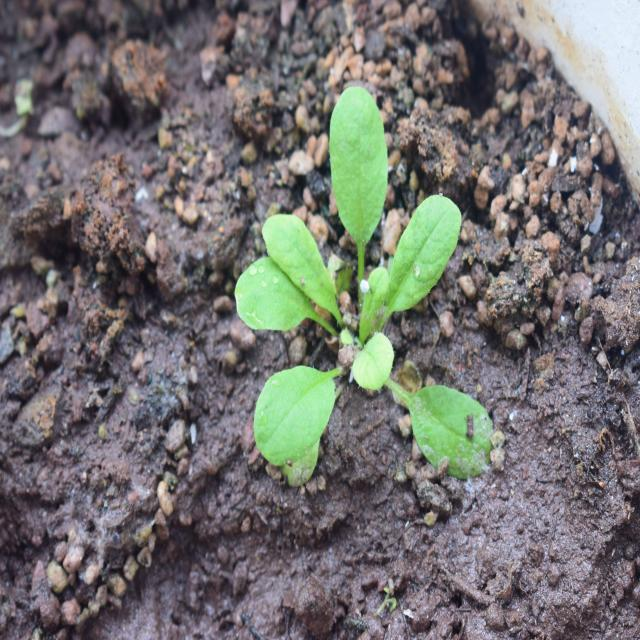Shepherd_Purse: (234, 104, 495, 478)
